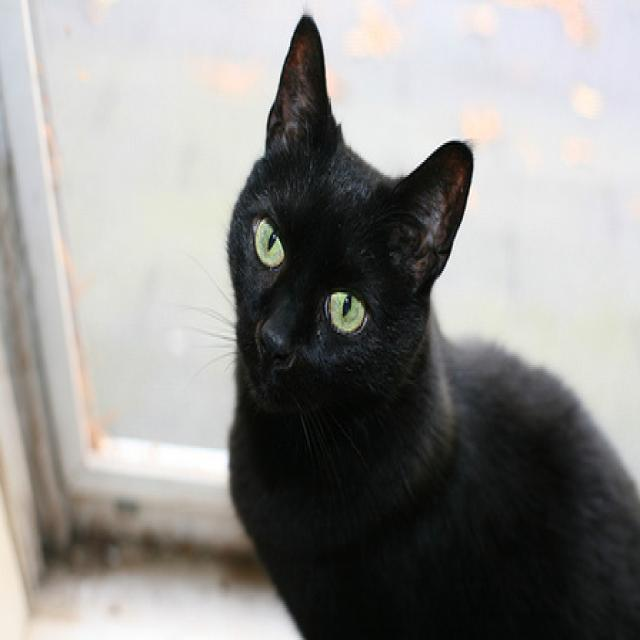Bombay: (226, 13, 470, 412)
